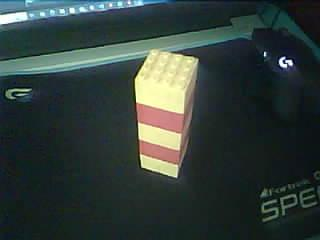lego: (134, 49, 198, 179)
